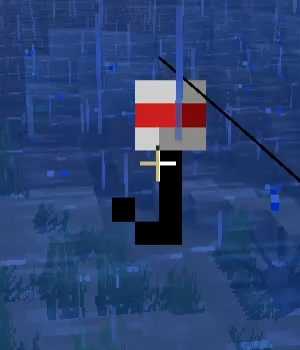up: (109, 73, 214, 250)
